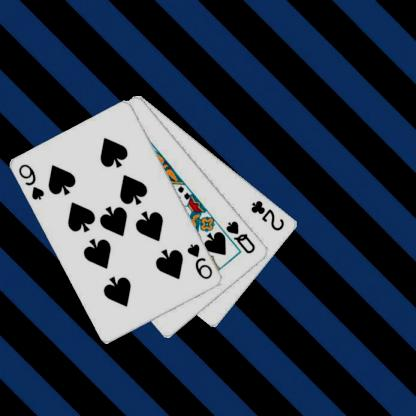2C: (248, 197, 286, 233)
9S: (16, 162, 46, 202), (185, 241, 214, 280)
QS: (224, 218, 257, 256)
